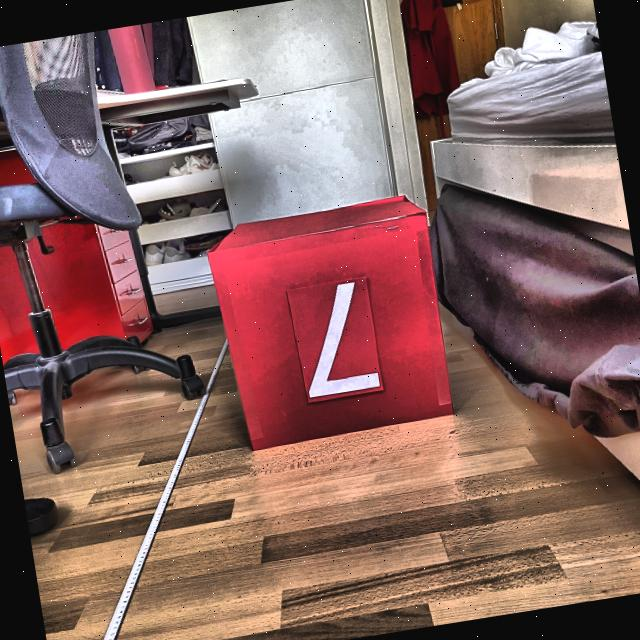red box: (204, 192, 462, 454)
seven: (291, 281, 382, 400)
